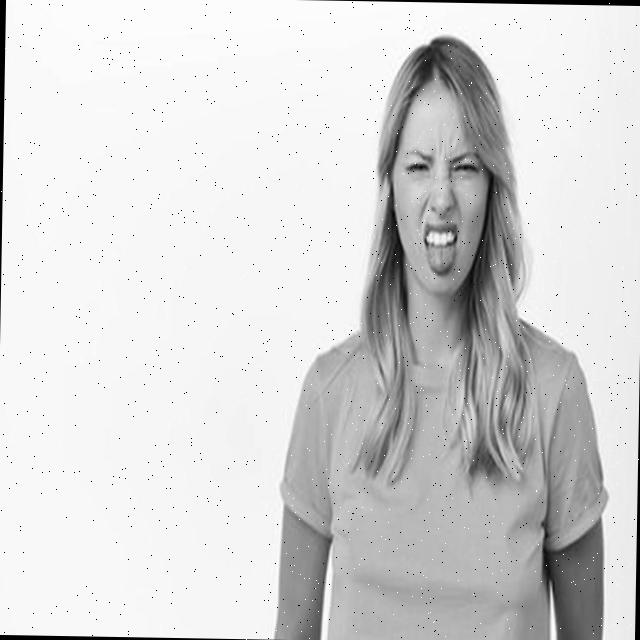Disgust: (390, 86, 490, 294)
